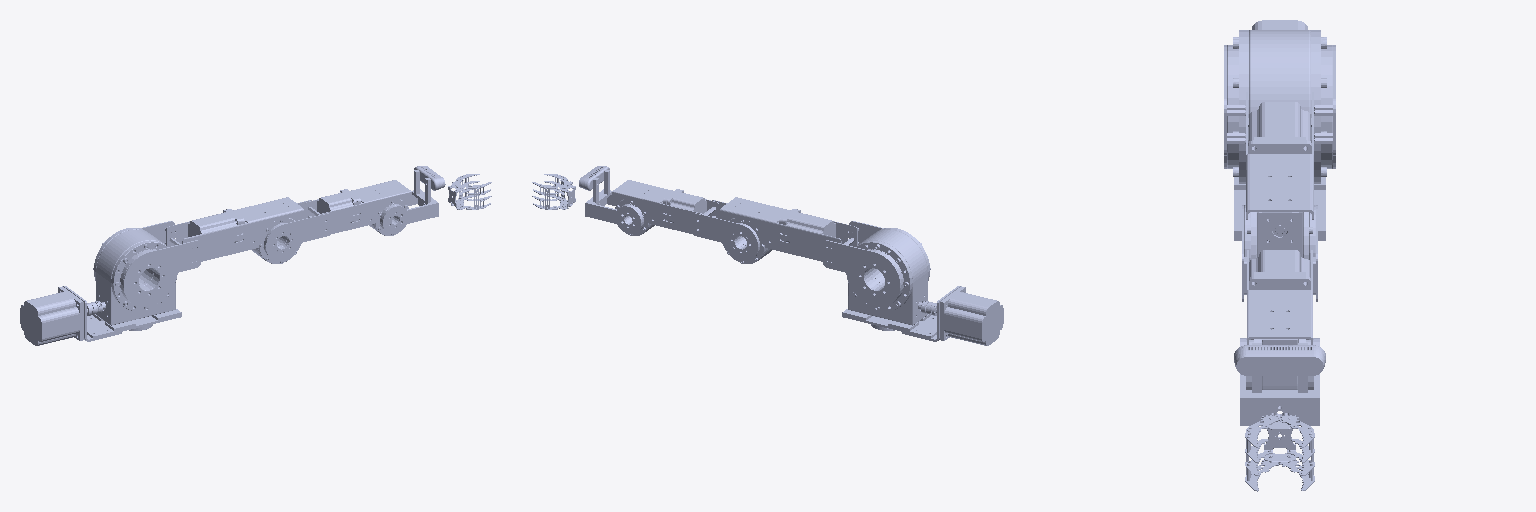
URDF robot description (manipulator_description):
<robot
  name="manipulator_description">
  <link name="dummy">
     </link>
  <link
    name="base_mani">
    <inertial>
      <origin
        xyz="6.6822E-07 0.0053488 -5.8753E-07"
        rpy="1.5708 0 0" />
      <mass
        value="0.040479" />
      <inertia
        ixx="0"
        ixy="0"
        ixz="0"
        iyy="0"
        iyz="0"
        izz="0" />
    </inertial>
    <visual>
      <origin
        xyz="0 0 0"
        rpy="1.5708 0 0" />
      <geometry>
        <mesh
          filename="package://manipulator_description/meshes/base_link.STL" />
      </geometry>
      <material
        name="">
        <color
          rgba="0.79216 0.81961 0.93333 1" />
      </material>
    </visual>
    <collision>
      <origin
        xyz="0 0 0"
        rpy="1.5708 0 0" />
      <geometry>
        <mesh
          filename="package://manipulator_description/meshes/base_link.STL" />
      </geometry>
    </collision>
  </link>
  <joint name="dummy_joint" type="fixed">
     <parent link="dummy"/>
     <child link="base_mani"/>
   </joint>
  <link
    name="rotate_part">
    <inertial>
      <origin
        xyz="-0.050253 0.076151 2.2843E-05"
        rpy="1.5708 0 0" />
      <mass
        value="2.6103" />
      <inertia
        ixx="0.0021398"
        ixy="-0.0043403"
        ixz="-3.039E-06"
        iyy="0.017562"
        iyz="-1.1696E-06"
        izz="0.019702" />
    </inertial>
    <visual>
      <origin
        xyz="0 0 0"
        rpy="1.5708 0 0" />
      <geometry>
        <mesh
          filename="package://manipulator_description/meshes/rotate_part.STL" />
      </geometry>
      <material
        name="">
        <color
          rgba="0.79216 0.81961 0.93333 1" />
      </material>
    </visual>
    <collision>
      <origin
        xyz="0 0 0"
        rpy="1.5708 0 0" />
      <geometry>
        <mesh
          filename="package://manipulator_description/meshes/rotate_part.STL" />
      </geometry>
    </collision>
  </link>
  <joint
    name="rotate_joint"
    type="continuous">
    <origin
      xyz="0 0 0.0114"
      rpy="0 0 0" />
    <parent
      link="base_mani" />
    <child
      link="rotate_part" />
    <axis
      xyz="0 0 1" />
  </joint>
  <link
    name="link1">
    <inertial>
      <origin
        xyz="0.24867 0.019981 -2.7435E-07"
        rpy="1.5708 0 0" />
      <mass
        value="1.0315" />
      <inertia
        ixx="0.00048633"
        ixy="0.0007461"
        ixz="2.5615E-09"
        iyy="0.0084803"
        iyz="5.6078E-09"
        izz="0.0085023" />
    </inertial>
    <visual>
      <origin
        xyz="0 0 0"
        rpy="1.5708 0 0" />
      <geometry>
        <mesh
          filename="package://manipulator_description/meshes/link1.STL" />
      </geometry>
      <material
        name="">
        <color
          rgba="0.79216 0.81961 0.93333 1" />
      </material>
    </visual>
    <collision>
      <origin
        xyz="0 0 0"
        rpy="1.5708 0 0" />
      <geometry>
        <mesh
          filename="package://manipulator_description/meshes/link1.STL" />
      </geometry>
    </collision>
  </link>
  <joint
    name="link1_joint"
    type="continuous">
    <origin
      xyz="0 0 0.108"
      rpy="0 0 0" />
    <parent
      link="rotate_part" />
    <child
      link="link1" />
    <axis
      xyz="0 1 0" />
  </joint>
  <link
    name="link2">
    <inertial>
      <origin
        xyz="0.20467 0.0073255 -6.6207E-07"
        rpy="1.5708 0 0" />
      <mass
        value="0.6446" />
      <inertia
        ixx="0.00014728"
        ixy="0.00038657"
        ixz="8.9937E-10"
        iyy="0.0027407"
        iyz="5.7461E-09"
        izz="0.0027996" />
    </inertial>
    <visual>
      <origin
        xyz="0 0 0"
        rpy="1.5708 0 0" />
      <geometry>
        <mesh
          filename="package://manipulator_description/meshes/link2.STL" />
      </geometry>
      <material
        name="">
        <color
          rgba="0.79216 0.81961 0.93333 1" />
      </material>
    </visual>
    <collision>
      <origin
        xyz="0 0 0"
        rpy="1.5708 0 0" />
      <geometry>
        <mesh
          filename="package://manipulator_description/meshes/link2.STL" />
      </geometry>
    </collision>
  </link>
  <joint
    name="link2_joint"
    type="continuous">
    <origin
      xyz="0.32 0 0"
      rpy="0 0 0" />
    <parent
      link="link1" />
    <child
      link="link2" />
    <axis
      xyz="0 1 0" />
  </joint>
  <link
    name="link3">
    <inertial>
      <origin
        xyz="0.053723 0.0050691 -6.9389E-18"
        rpy="1.5708 0 0" />
      <mass
        value="0.073222" />
      <inertia
        ixx="0"
        ixy="0"
        ixz="0"
        iyy="0"
        iyz="0"
        izz="0" />
    </inertial>
    <visual>
      <origin
        xyz="0 0 0"
        rpy="1.5708 0 0" />
      <geometry>
        <mesh
          filename="package://manipulator_description/meshes/link3.STL" />
      </geometry>
      <material
        name="">
        <color
          rgba="0.79216 0.81961 0.93333 1" />
      </material>
    </visual>
    <collision>
      <origin
        xyz="0 0 0"
        rpy="1.5708 0 0" />
      <geometry>
        <mesh
          filename="package://manipulator_description/meshes/link3.STL" />
      </geometry>
    </collision>
  </link>
  <joint
    name="link3_joint"
    type="continuous">
    <origin
      xyz="0.26 0 -0.01025"
      rpy="0 0 0" />
    <parent
      link="link2" />
    <child
      link="link3" />
    <axis
      xyz="0 1 0" />
  </joint>
  <link
    name="gripper">
    <inertial>
      <origin
        xyz="0.027929 3.3689E-11 -2.7803E-05"
        rpy="1.5708 0 0" />
      <mass
        value="0.0098502" />
      <inertia
        ixx="6.3744E-06"
        ixy="4.5585E-15"
        ixz="-4.9187E-09"
        iyy="6.8614E-06"
        iyz="5.4796E-16"
        izz="5.7066E-06" />
    </inertial>
    <visual>
      <origin
        xyz="0 0 0"
        rpy="1.5708 0 0" />
      <geometry>
        <mesh
          filename="package://manipulator_description/meshes/gripper.STL" />
      </geometry>
      <material
        name="">
        <color
          rgba="0.79216 0.81961 0.93333 1" />
      </material>
    </visual>
    <collision>
      <origin
        xyz="0 0 0"
        rpy="1.5708 0 0" />
      <geometry>
        <mesh
          filename="package://manipulator_description/meshes/gripper.STL" />
      </geometry>
    </collision>
  </link>
  <joint
    name="gripper_joint"
    type="fixed">
    <origin
      xyz="0.155 0 0"
      rpy="0 0 0" />
    <parent
      link="link3" />
    <child
      link="gripper" />
    <axis
      xyz="0 0 0" />
  </joint>
  <link
    name="camera_link">
    <inertial>
      <origin
        xyz="-0.013049 -6.0566E-05 -0.0002462"
        rpy="1.5708 0 0" />
      <mass
        value="0.044752" />
      <inertia
        ixx="1.6244E-06"
        ixy="-1.0057E-12"
        ixz="3.401E-07"
        iyy="1.8076E-06"
        iyz="-2.5069E-09"
        izz="1.8322E-07" />
    </inertial>
    <visual>
      <origin
        xyz="0 0 0"
        rpy="1.5708 0 0" />
      <geometry>
        <mesh
          filename="package://manipulator_description/meshes/camera_link.STL" />
      </geometry>
      <material
        name="">
        <color
          rgba="0.79216 0.81961 0.93333 1" />
      </material>
    </visual>
    <collision>
      <origin
        xyz="0 0 0"
        rpy="1.5708 0 0" />
      <geometry>
        <mesh
          filename="package://manipulator_description/meshes/camera_link.STL" />
      </geometry>
    </collision>
  </link>
  <joint
    name="camera_joint"
    type="fixed">
    <origin
      xyz="0.113 0 0.055"
      rpy="0 0 0" />
    <parent
      link="link3" />
    <child
      link="camera_link" />
    <axis
      xyz="0 0 0" />
  </joint>
</robot>

--- Render facts (derived) ---
Views: 3 orthographic renders of the robot side by side, from view 1: azimuth 30°, elevation 25°; view 2: azimuth 150°, elevation 25°; view 3: azimuth 270°, elevation 25°.
Model manipulator_description with 8 links and 7 joints (4 continuous, 3 fixed), rooted at dummy, posed every joint at zero.
Links seen in each view (by area): view 1: rotate_part, link1, link2, link3, gripper; view 2: rotate_part, link1, link2, link3, gripper; view 3: link1, rotate_part, link2, gripper, link3, camera_link.
Boxes of the visible links, x1=… form: rotate_part: x1=20, y1=228, x2=181, y2=345; link1: x1=123, y1=197, x2=303, y2=306; link2: x1=265, y1=180, x2=411, y2=260; link3: x1=382, y1=170, x2=438, y2=233; gripper: x1=448, y1=174, x2=491, y2=209; rotate_part: x1=842, y1=228, x2=1003, y2=345; link1: x1=720, y1=197, x2=900, y2=306; link2: x1=612, y1=180, x2=758, y2=260; link3: x1=585, y1=170, x2=641, y2=233; gripper: x1=532, y1=174, x2=575, y2=209; link1: x1=1224, y1=45, x2=1335, y2=261; rotate_part: x1=1227, y1=20, x2=1332, y2=240; link2: x1=1242, y1=205, x2=1317, y2=389; gripper: x1=1245, y1=415, x2=1314, y2=491; link3: x1=1240, y1=338, x2=1319, y2=425; camera_link: x1=1234, y1=345, x2=1325, y2=375.
Size in the robot's own frame: 1.05 by 0.109 by 0.1953 metres.
Meshes: 7 distinct files referenced, 7 mesh visuals loaded (7 binary STL).